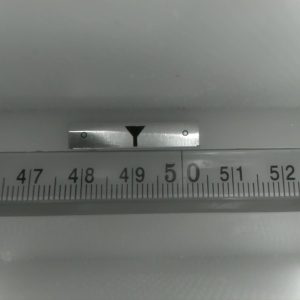0: (186, 163, 200, 182)
1: (231, 166, 239, 181)
2: (284, 165, 295, 181)
4: (16, 169, 27, 184), (67, 168, 78, 183), (118, 168, 128, 183)
5: (164, 163, 176, 182), (269, 165, 279, 181), (221, 166, 230, 182)
7: (32, 169, 43, 184)
8: (83, 168, 93, 184)
9: (134, 167, 144, 183)
finger: (124, 126, 145, 146)
